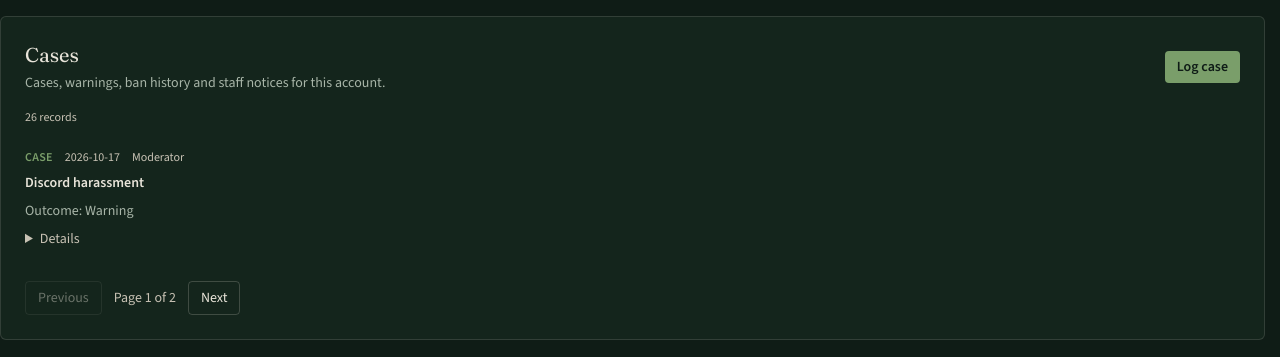
paginates every record for the same account
The image size is (1280, 357).
What coordinates should you click on to do the following:
click the button "Next"
I would click on:
 (214, 298)
Its box is [188,281,240,315].
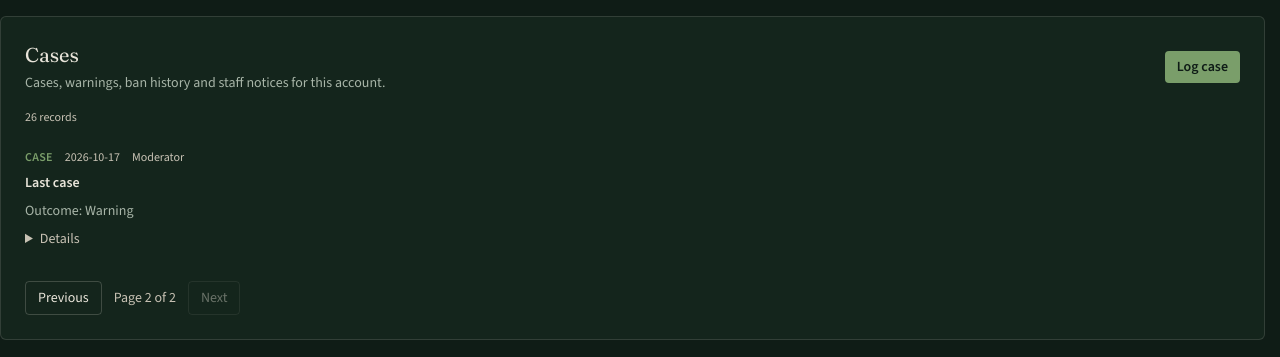
Now the text "Last case" is shown, box [25,173,80,192]
Now the text "Page 2 of 2" is shown, box [114,288,176,308]
